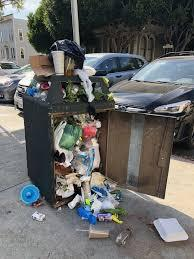trash: (55, 114, 129, 244), (17, 38, 123, 101), (18, 180, 53, 226), (154, 213, 189, 250)
trash_can_overflow: (13, 27, 191, 256)
